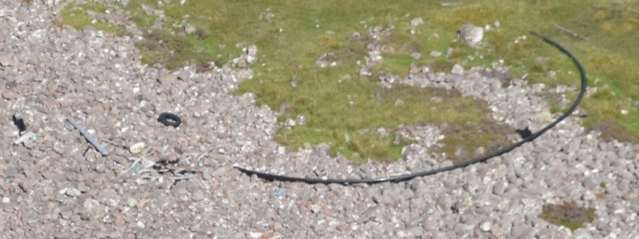straight_bar: (60, 100, 115, 162)
tube: (225, 21, 595, 190)
white_in_green: (138, 91, 201, 147)
